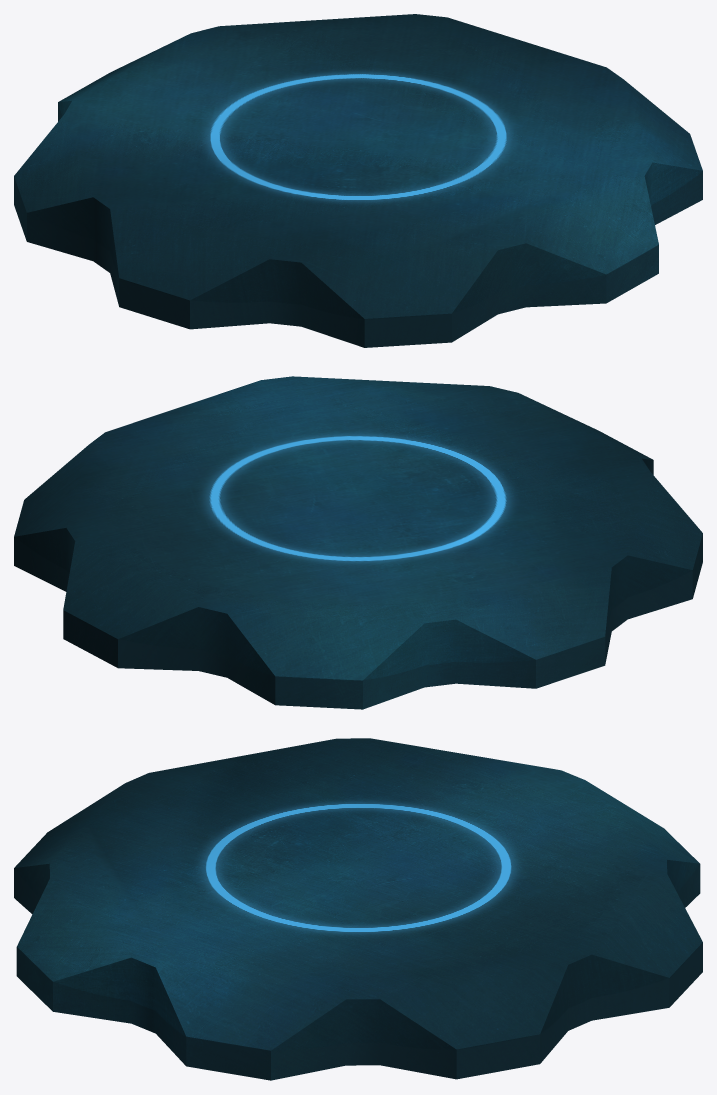
The model's file is exitDoorBase.obj.
The picture shows the model from 3 angles, top to bottom: view 1: azimuth 30°, elevation 25°; view 2: azimuth 150°, elevation 25°; view 3: azimuth 270°, elevation 25°; orthographic projection. The views are drawn at different scales.
Parts seen in each view (by area): view 1: Base; view 2: Base; view 3: Base.
Part boxes in pixels (bbox=[...]): Base: bbox=[14, 14, 702, 347]; Base: bbox=[14, 376, 702, 709]; Base: bbox=[14, 738, 702, 1080].
Size of the model in its own units: 4.96 by 0.538 by 4.96.
1 material, 1 textured.
